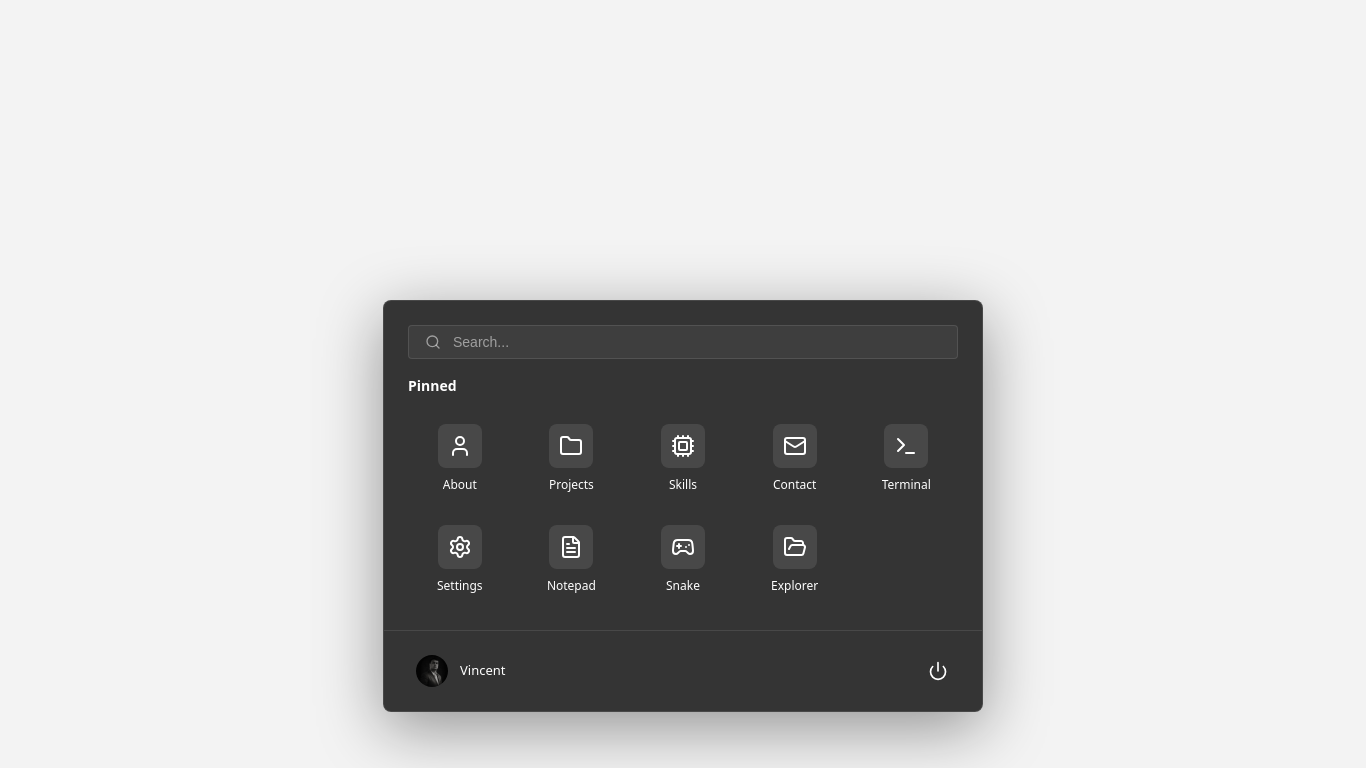
Scenario: StartMenu › search functionality › should show no results message when search matches nothing
The width and height of the screenshot is (1366, 768).
In the field: {"x": 697, "y": 342} x1=453 y1=334 x2=941 y2=350, type "xyz123"
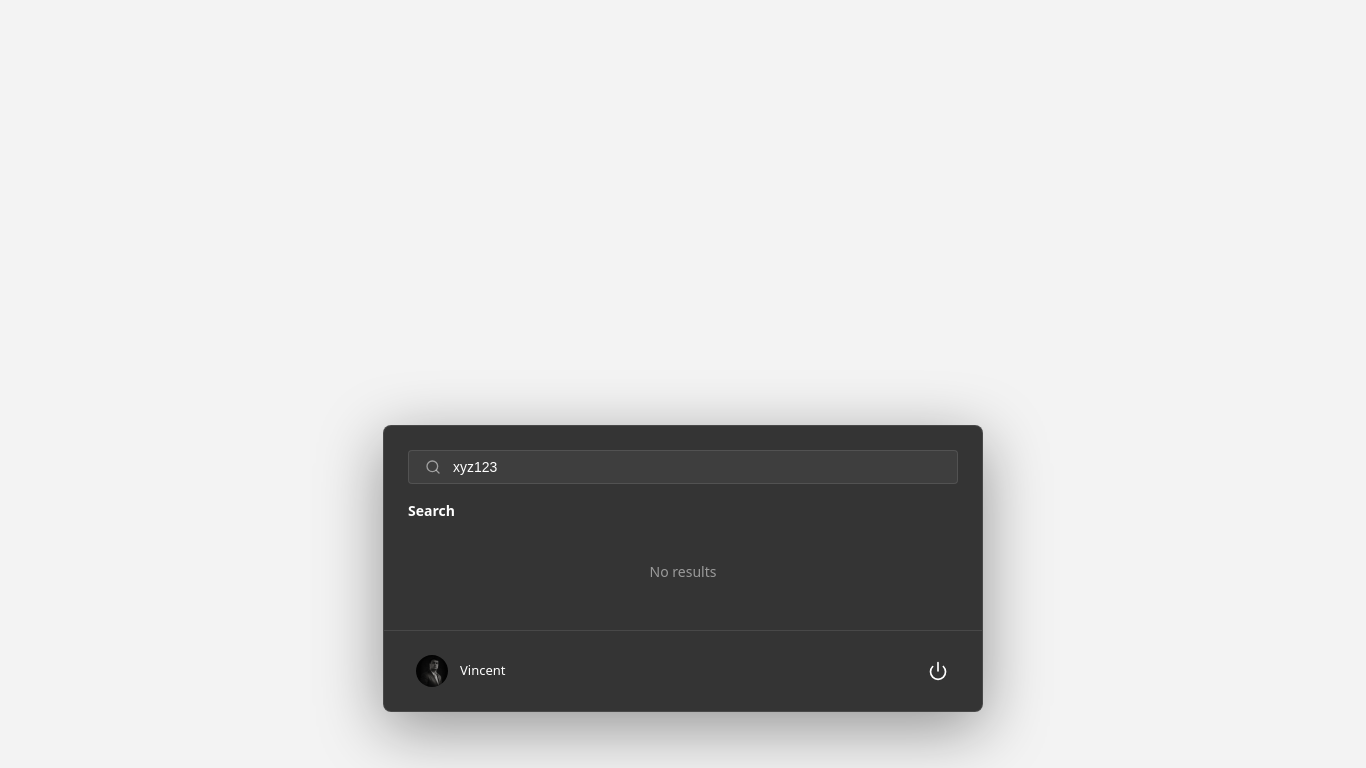
expect the text "No results" is shown: met, box x1=650 y1=562 x2=716 y2=581
expect no list items are shown: met
